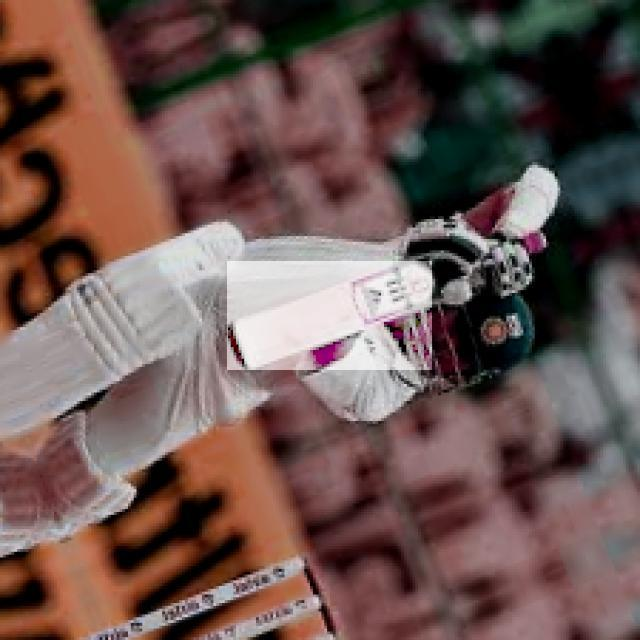bat: (229, 260, 430, 374)
toe: (226, 328, 246, 374)
